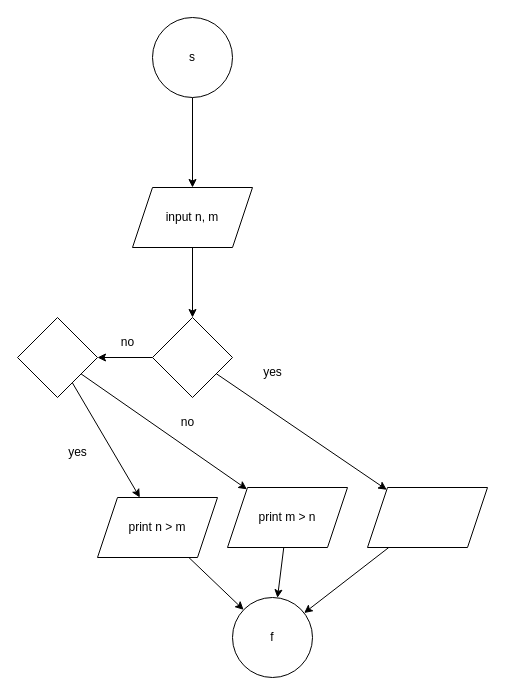
Image size: 505x695. Some labels were removed from this diagram. Here are the shapes that lost their labels. From the top down, the centre of each, then its label:
At pixel 57 357: "if n > m".
At pixel 192 357: "if n = m".
At pixel 427 517: "print draw".
